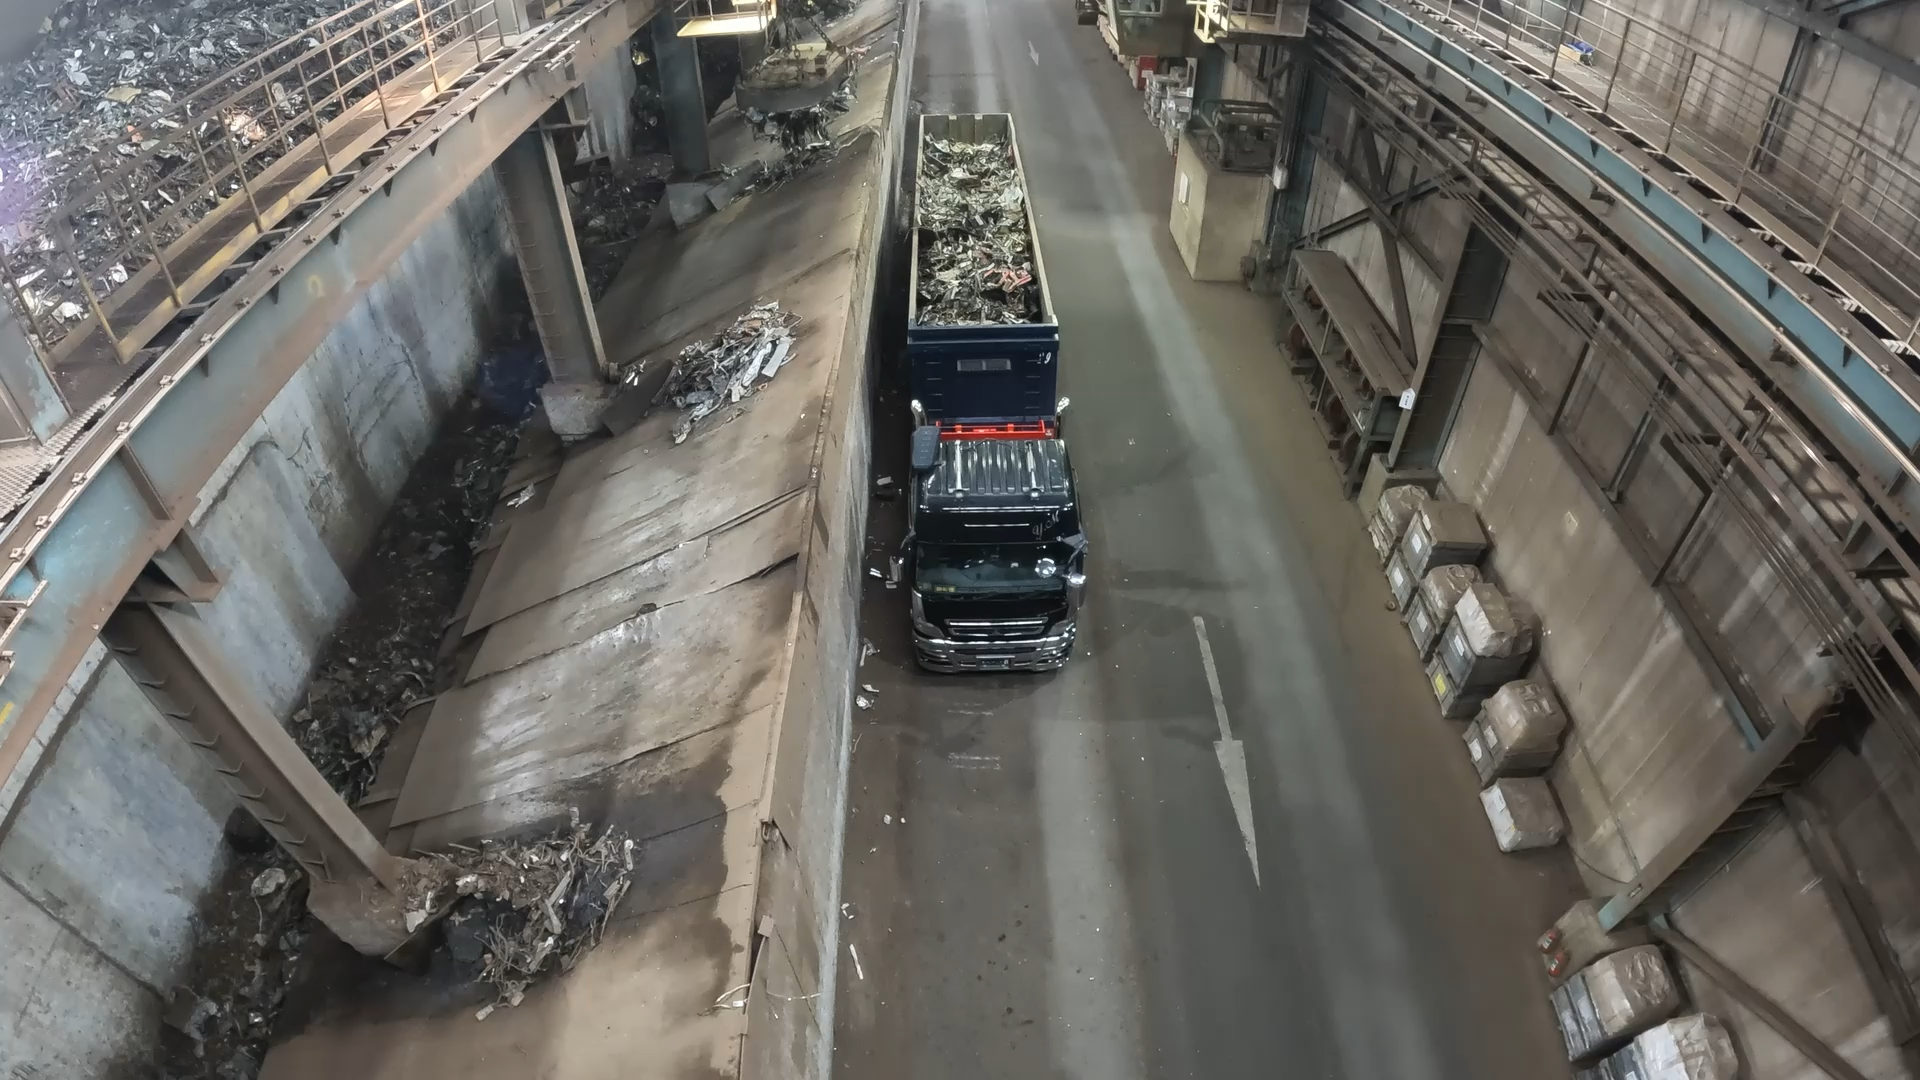truck: (913, 112, 1054, 328)
